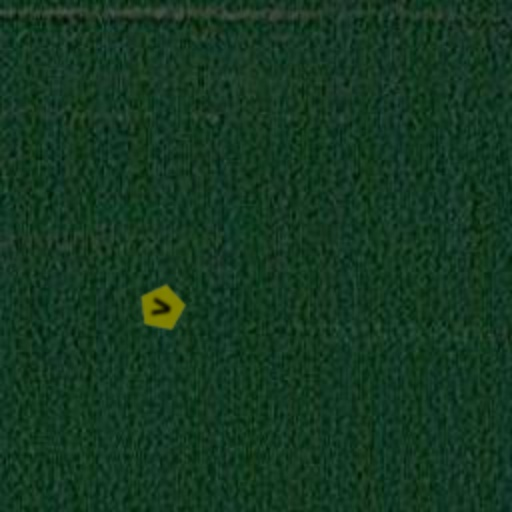pentagon: (132, 278, 192, 338)
